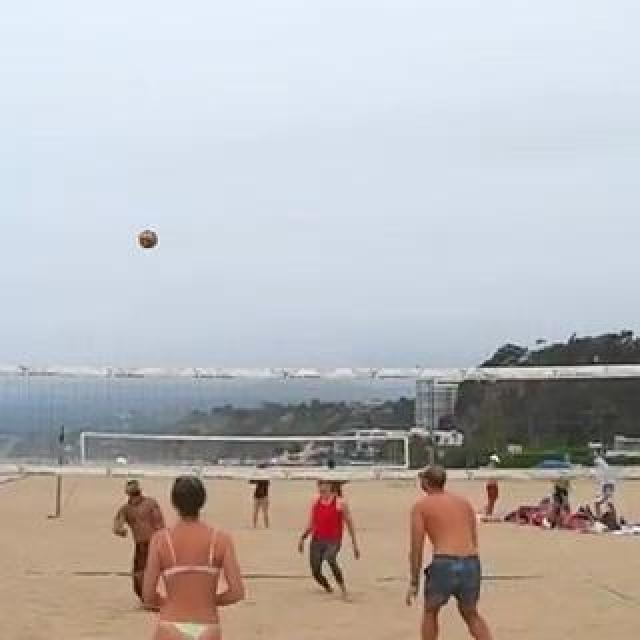volleyball: (139, 228, 159, 248)
